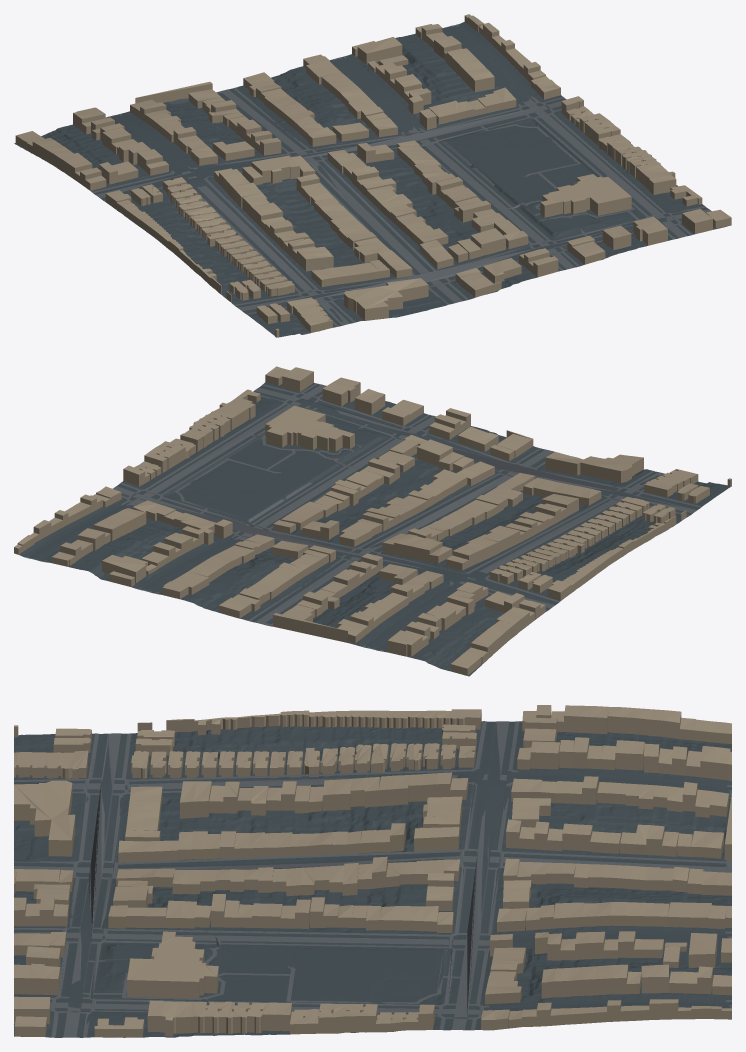
Rendered from epsg26910-1419-10882.lod0.glb.
3 renders of one model, top to bottom at view 1: azimuth 30°, elevation 25°; view 2: azimuth 150°, elevation 25°; view 3: azimuth 270°, elevation 25°, orthographic. The views are drawn at different scales.
Visible parts, largest first — view 1: epsg26910-1419-10882-lod0; view 2: epsg26910-1419-10882-lod0; view 3: epsg26910-1419-10882-lod0.
Part boxes in pixels (x1,y1,x2,y2): epsg26910-1419-10882-lod0: (14, 14, 731, 337); epsg26910-1419-10882-lod0: (14, 366, 731, 676); epsg26910-1419-10882-lod0: (14, 705, 731, 1037).
Bounding box in the file's own units: 384 × 28.75 × 384.
